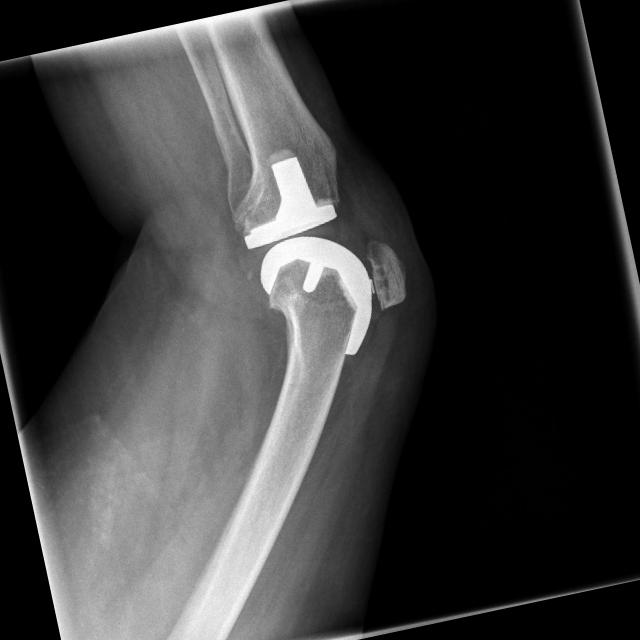Knee: (205, 130, 422, 382)
